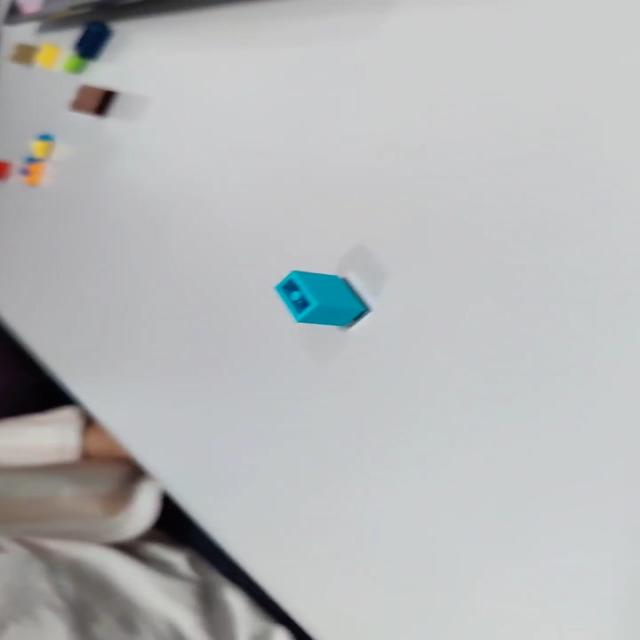C2x1x1: (272, 270, 368, 328)
